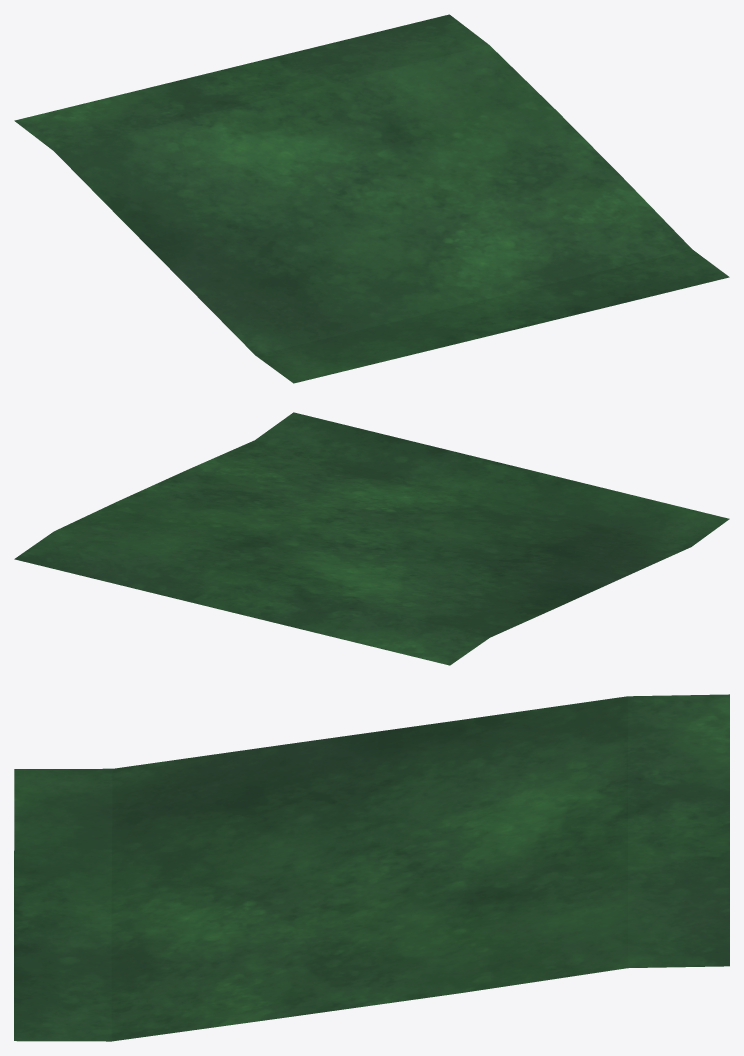
The model's file is Bleach_LingYuan_DiMian008_cpoff.FBX.
3 renders of one model, top to bottom at view 1: azimuth 30°, elevation 25°; view 2: azimuth 150°, elevation 25°; view 3: azimuth 270°, elevation 25°, orthographic. The views are drawn at different scales.
Visible parts, largest first — view 1: Bleach_LingYuan_DiMian008; view 2: Bleach_LingYuan_DiMian008; view 3: Bleach_LingYuan_DiMian008.
Boxes of the visible parts, x1,y1,x2,y2 form: Bleach_LingYuan_DiMian008: (14,14,729,383); Bleach_LingYuan_DiMian008: (14,412,729,665); Bleach_LingYuan_DiMian008: (14,694,729,1041).
Size of the model in its own units: 121 by 15.34 by 134.
Materials: 1 (1 with a texture image).
